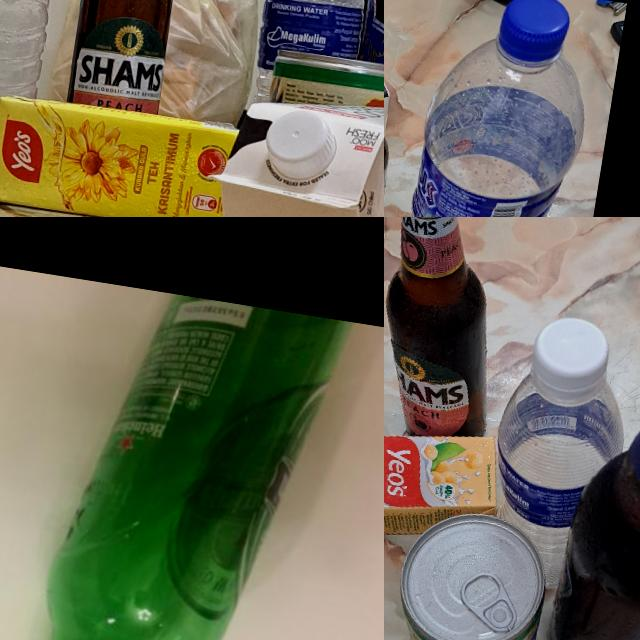aba de lata: (454, 568, 522, 634)
caixinha: (0, 90, 261, 217), (207, 78, 384, 217), (384, 405, 508, 568)
garrafa de vidro: (12, 280, 356, 640), (536, 280, 640, 640), (384, 217, 528, 446), (61, 0, 202, 137)
garrafa plástica: (392, 26, 595, 217), (475, 362, 633, 594), (0, 0, 100, 217), (249, 0, 381, 140)
lata: (384, 503, 556, 640), (265, 39, 384, 145)
tampa plástica: (527, 313, 613, 407), (260, 101, 336, 180), (494, 0, 573, 65)
